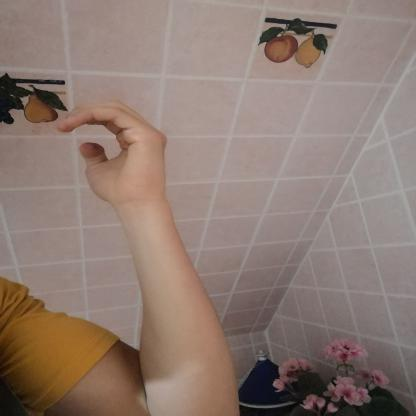JEEM: (42, 91, 188, 212)
